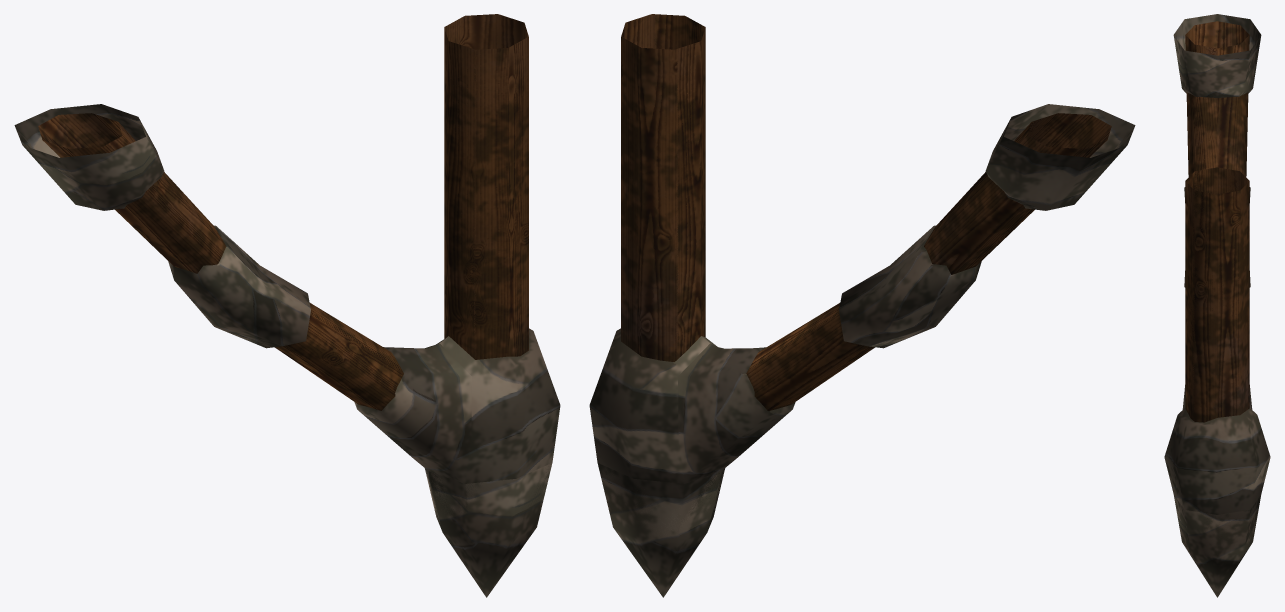
File: Wood Pillars Tileable.fbx
3 renders of one model, left to right at view 1: azimuth 30°, elevation 25°; view 2: azimuth 150°, elevation 25°; view 3: azimuth 270°, elevation 25°, orthographic. The views are drawn at different scales.
Parts seen in each view (by area): view 1: Branching_wood, Wood_Piece_1, Angled_rag, broken_wood_rag, rag; view 2: Branching_wood, Wood_Piece_1, Angled_rag, broken_wood_rag, rag; view 3: Branching_wood, Angled_rag, rag, Wood_Piece_1, broken_wood_rag.
Part boxes in pixels (left/top/right/bottom): Branching_wood: left=38, top=50, right=560, bottom=539; Wood_Piece_1: left=444, top=14, right=528, bottom=359; Angled_rag: left=14, top=104, right=164, bottom=210; broken_wood_rag: left=428, top=472, right=549, bottom=596; rag: left=428, top=463, right=552, bottom=597; Branching_wood: left=589, top=14, right=1111, bottom=593; Wood_Piece_1: left=621, top=14, right=705, bottom=359; Angled_rag: left=985, top=104, right=1135, bottom=210; broken_wood_rag: left=610, top=472, right=720, bottom=596; rag: left=599, top=463, right=721, bottom=597; Branching_wood: left=1164, top=21, right=1270, bottom=596; Angled_rag: left=1173, top=14, right=1261, bottom=97; rag: left=1173, top=494, right=1253, bottom=597; Wood_Piece_1: left=1185, top=170, right=1249, bottom=420; broken_wood_rag: left=1182, top=516, right=1246, bottom=595.
Bounding box in the file's own units: 1.3 × 1.33 × 0.3074.
1 material, 1 textured.
